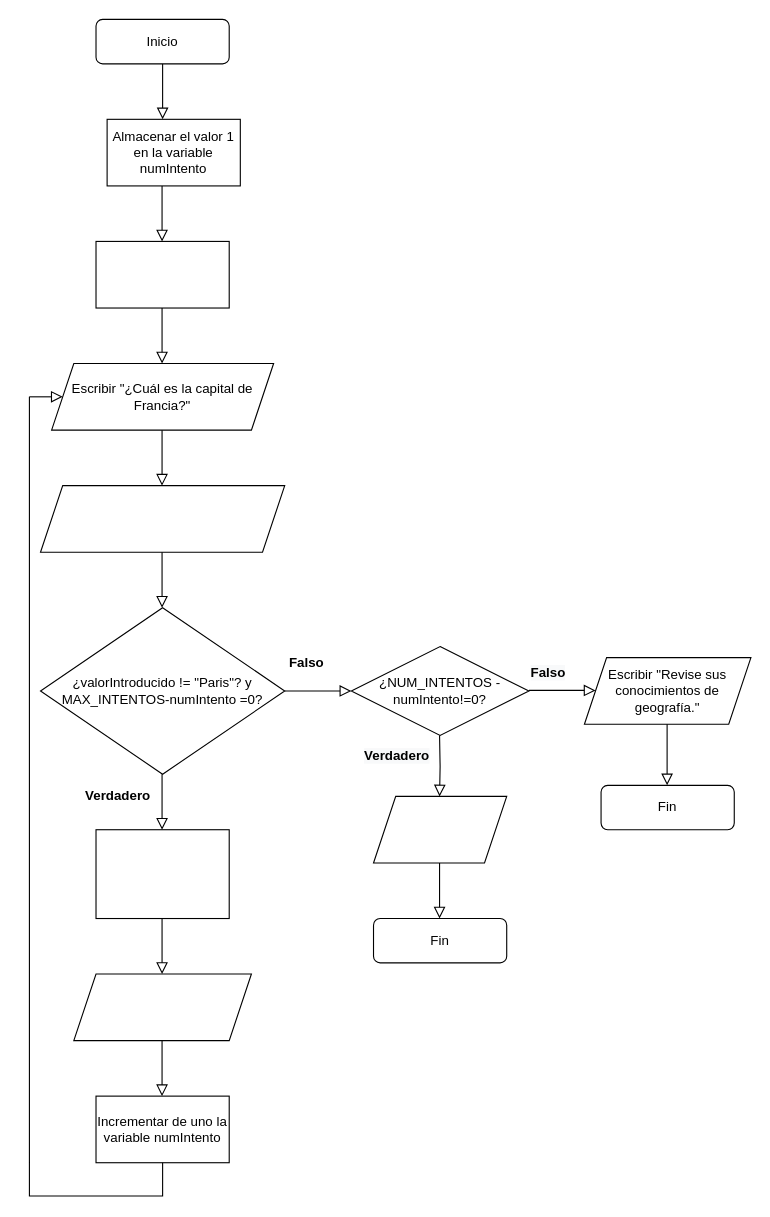
Image size: 770x1217. Some labels were removed from this diagram. Here are the shapes that lost their labels. From the top down, the centre of each, then its label:
point (162, 274): Almacenar en valor 5 en la variable MAX_INTENTOS
point (162, 518): Almacenar el valor introducido en la variable valorIntroducido
point (439, 829): Escribir "Bravo."
point (162, 874): Almacenar en la variable intentos el resultado de MAX_INTENTOS-numIntento
point (162, 1007): Escribir "Respuesta incorrecta. Sólo faltan" y intentos y "intento(s)."
